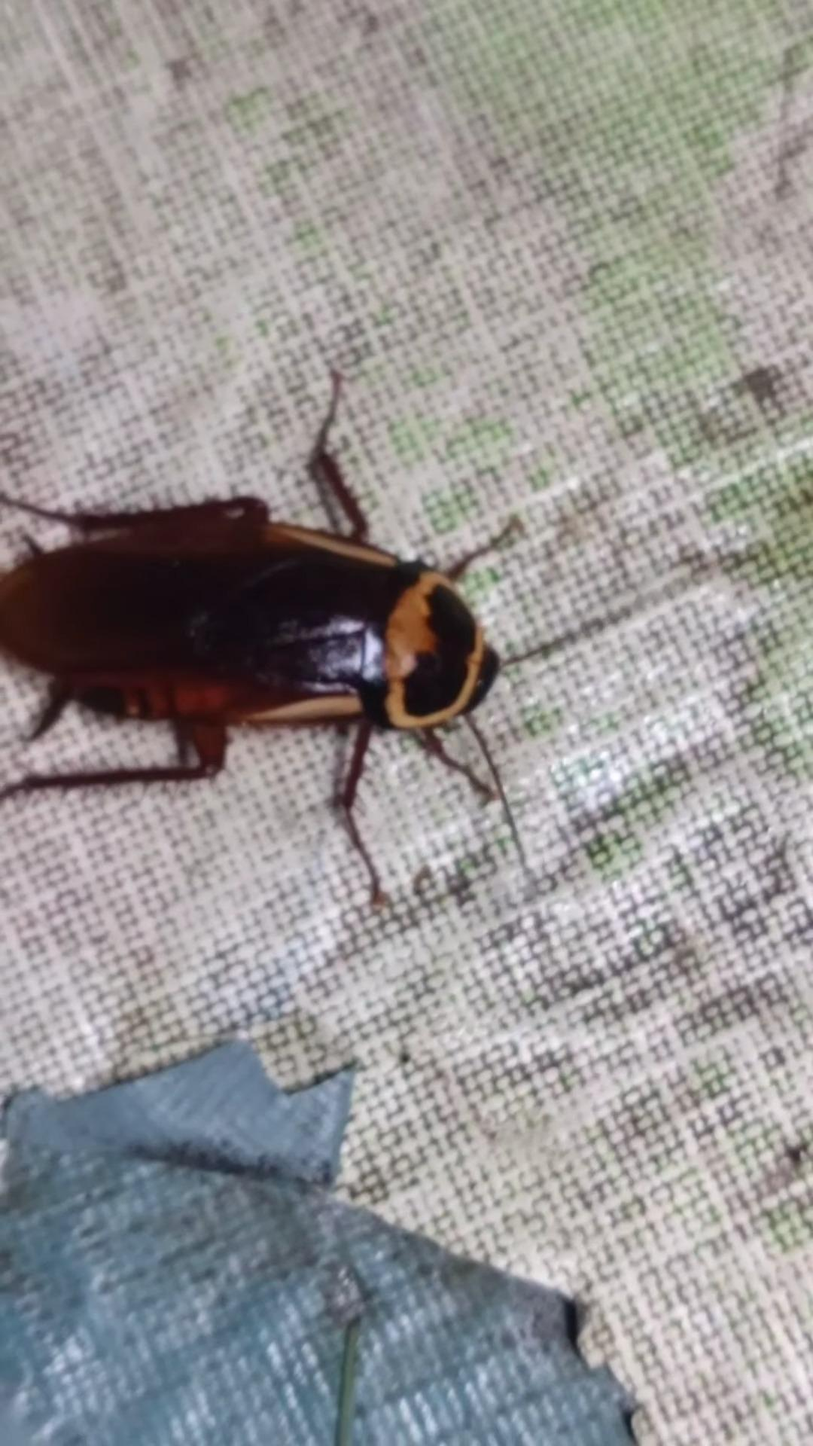cockroach: (0, 343, 813, 916)
